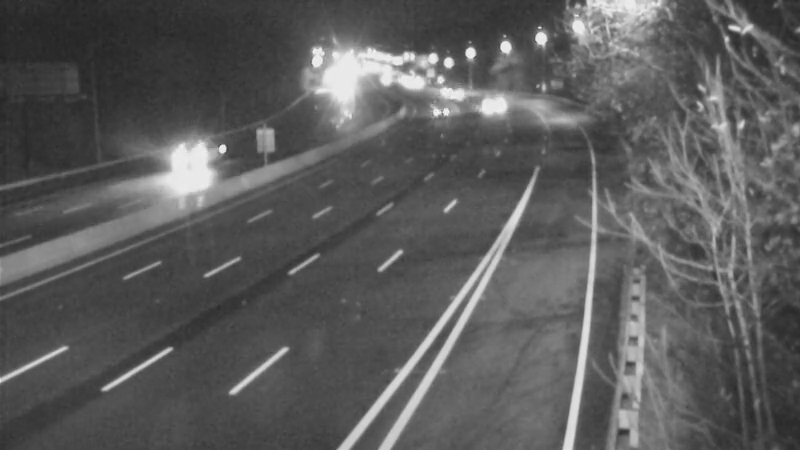vehicle: (155, 117, 235, 197), (425, 71, 475, 121), (460, 82, 510, 132), (409, 84, 459, 134)
